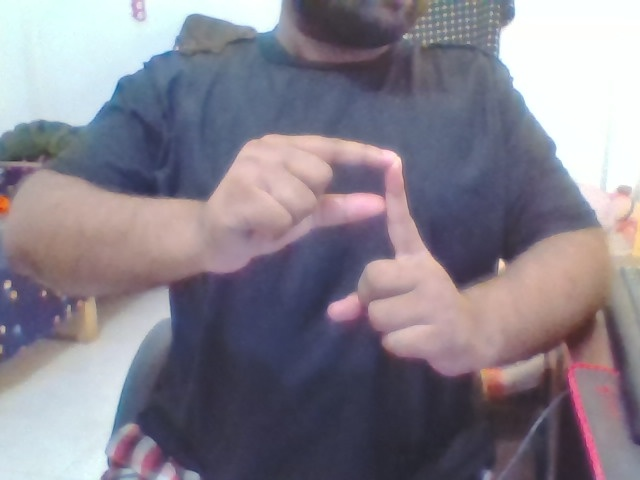P: (218, 112, 506, 389)
